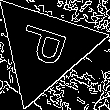P_E: (14, 23, 76, 74)
